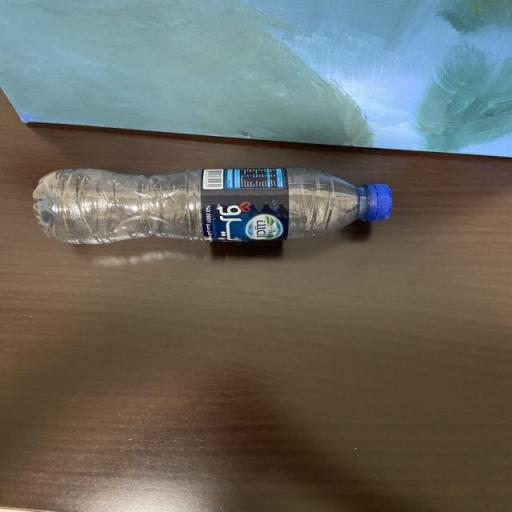plastic: (22, 160, 402, 257)
